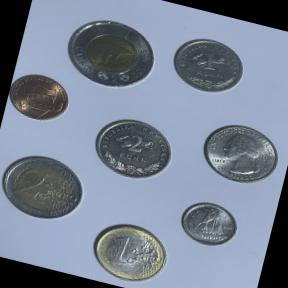1 Euro: (82, 211, 178, 288)
2 Euro: (0, 141, 93, 233)
Canda-10cent-: (170, 192, 246, 255)
Canda-2Dollar-: (56, 3, 170, 101)
Croatia-2Kune-: (83, 106, 181, 190)
US-1cent-: (3, 65, 78, 131)
US-25cent-: (191, 112, 287, 198)
